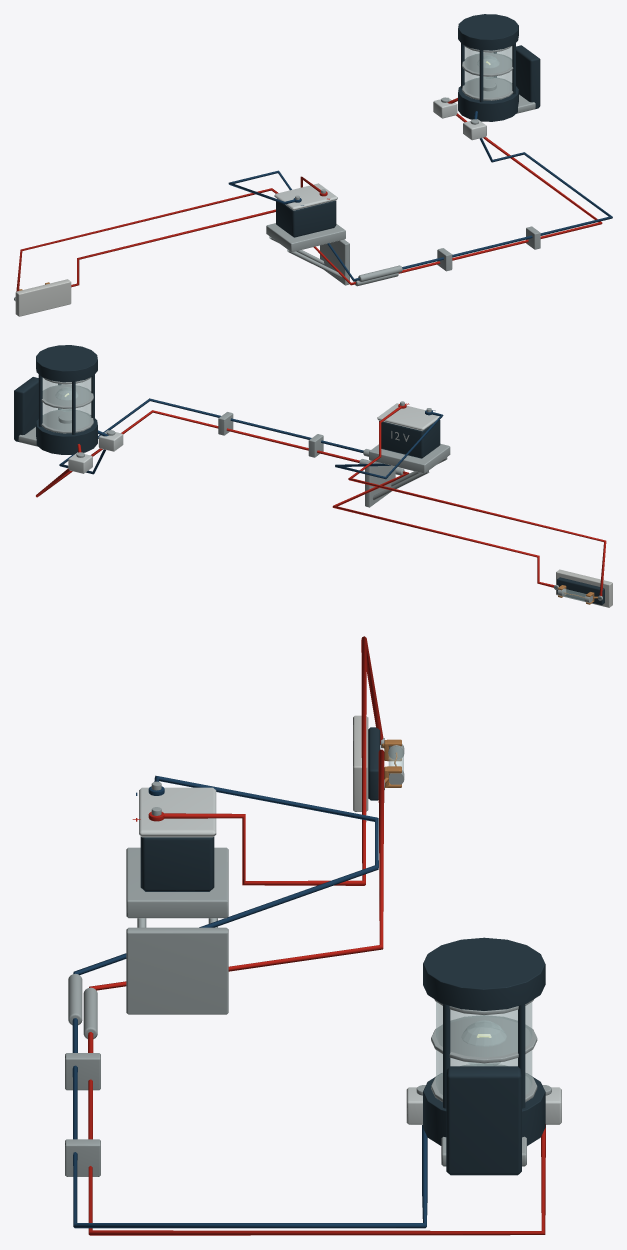
File: bridge-lantern-v2.glb
3 views of the same model, one above another, from view 1: azimuth 30°, elevation 25°; view 2: azimuth 150°, elevation 25°; view 3: azimuth 270°, elevation 25° (orthographic). The views are drawn at different scales.
Parts seen in each view (by area): view 1: Healthy 12 V practice equipment, Practice lamp and intact fuse glass; view 2: Healthy 12 V practice equipment, Practice lamp and intact fuse glass; view 3: Healthy 12 V practice equipment, Practice lamp and intact fuse glass.
Part boxes in pixels (x1,y1,x2,y2): Healthy 12 V practice equipment: (14,14,612,316); Practice lamp and intact fuse glass: (464,46,512,97); Healthy 12 V practice equipment: (14,345,612,607); Practice lamp and intact fuse glass: (42,378,586,601); Healthy 12 V practice equipment: (65,636,561,1235); Practice lamp and intact fuse glass: (388,746,532,1094).
Size of the model in its own units: 2.47 by 0.622 by 0.972.
